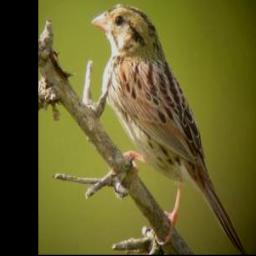Sparrow: (90, 0, 250, 251)
